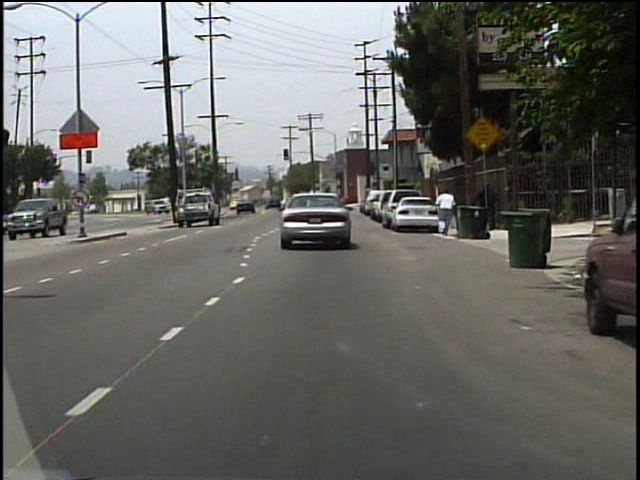person: (434, 187, 457, 238)
